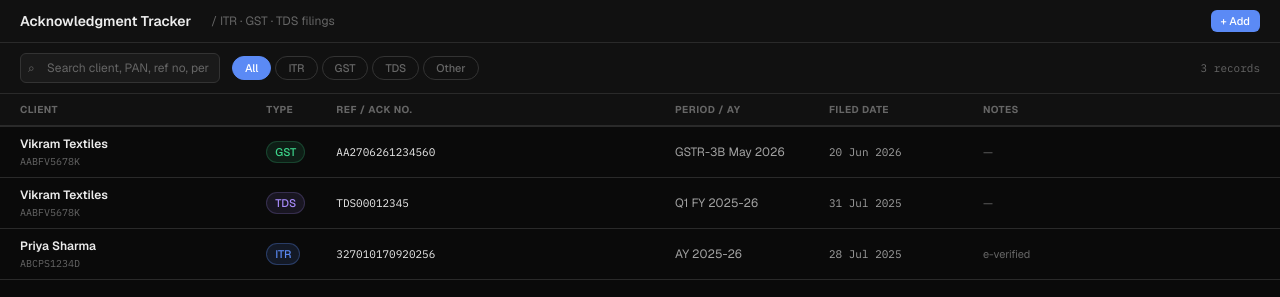
it: AcknowledgmentPage — type filter › All filter restores full list
Step 1. Click the button "ITR" → [296, 68], box [275,56,318,80]
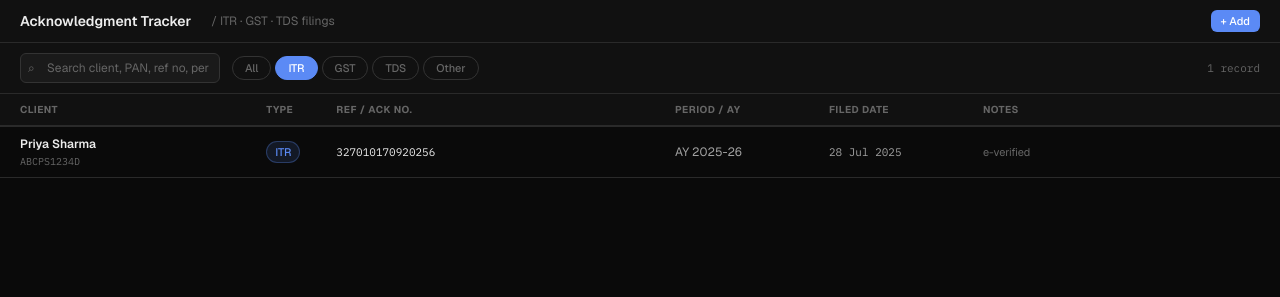
Step 2. Click the button "All" → [252, 68], box [232,56,271,80]
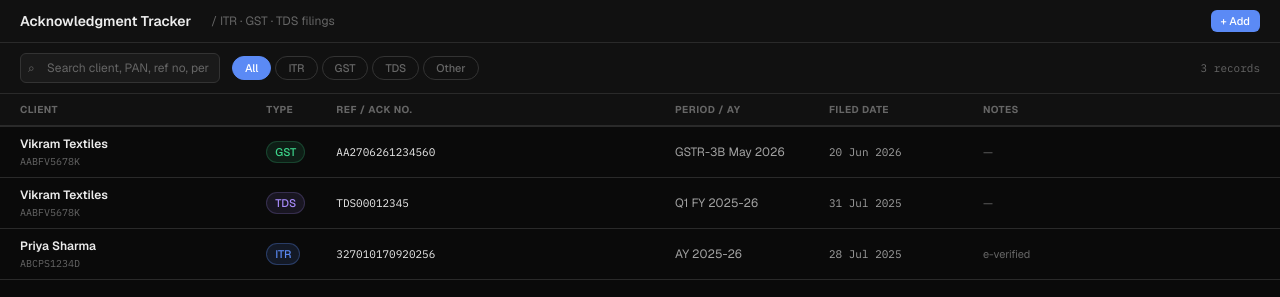
Now the text "3 records" is shown, box [1201,60,1260,76]
